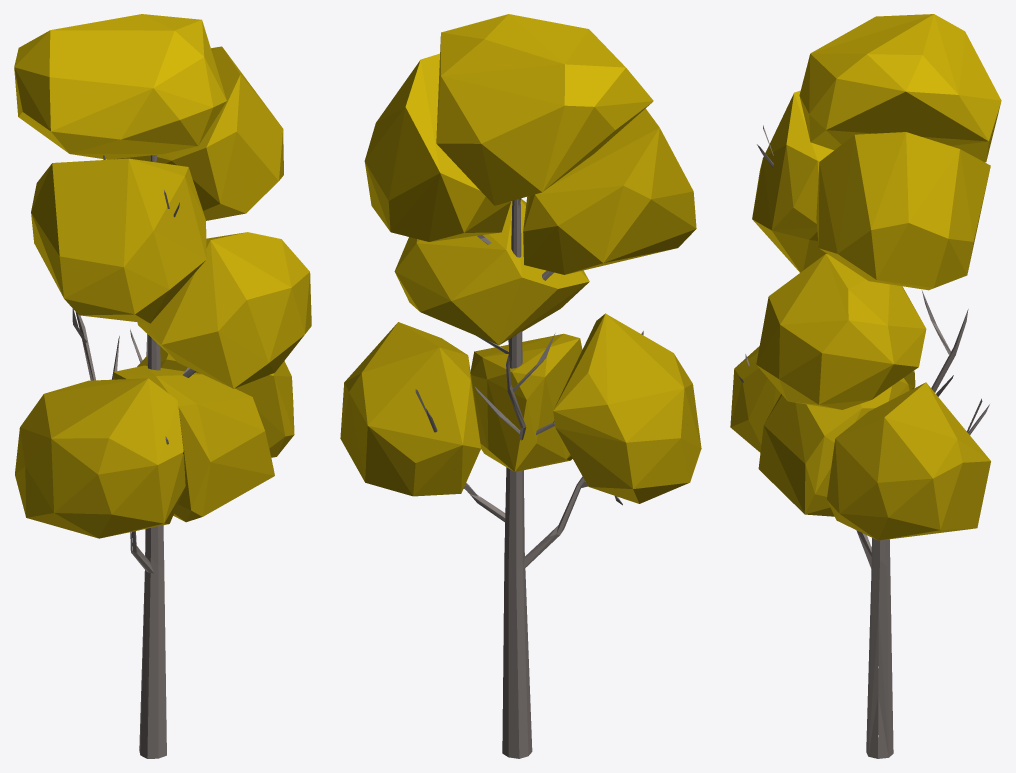
Rendered from estilizada-BirchTree_2.glb.
The picture shows the model from 3 angles, left to right: view 1: azimuth 30°, elevation 25°; view 2: azimuth 150°, elevation 25°; view 3: azimuth 270°, elevation 25°; orthographic projection. The views are drawn at different scales.
Visible parts, largest first — view 1: BirchTree_2.001; view 2: BirchTree_2.001; view 3: BirchTree_2.001.
Boxes of the visible parts, left/top/right/bottom form: BirchTree_2.001: left=14, top=14, right=311, bottom=758; BirchTree_2.001: left=340, top=14, right=701, bottom=758; BirchTree_2.001: left=730, top=14, right=1001, bottom=758.
Bounding box in the file's own units: 3.18 × 7.5 × 2.61.
